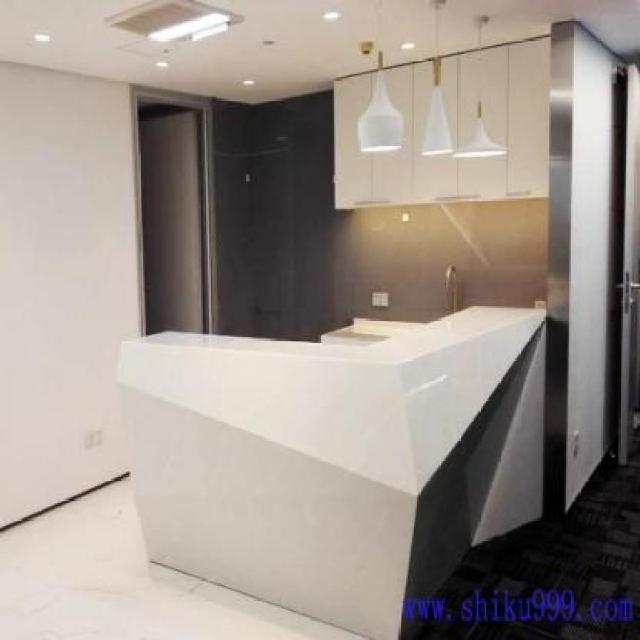frontdesk: (98, 278, 557, 640)
